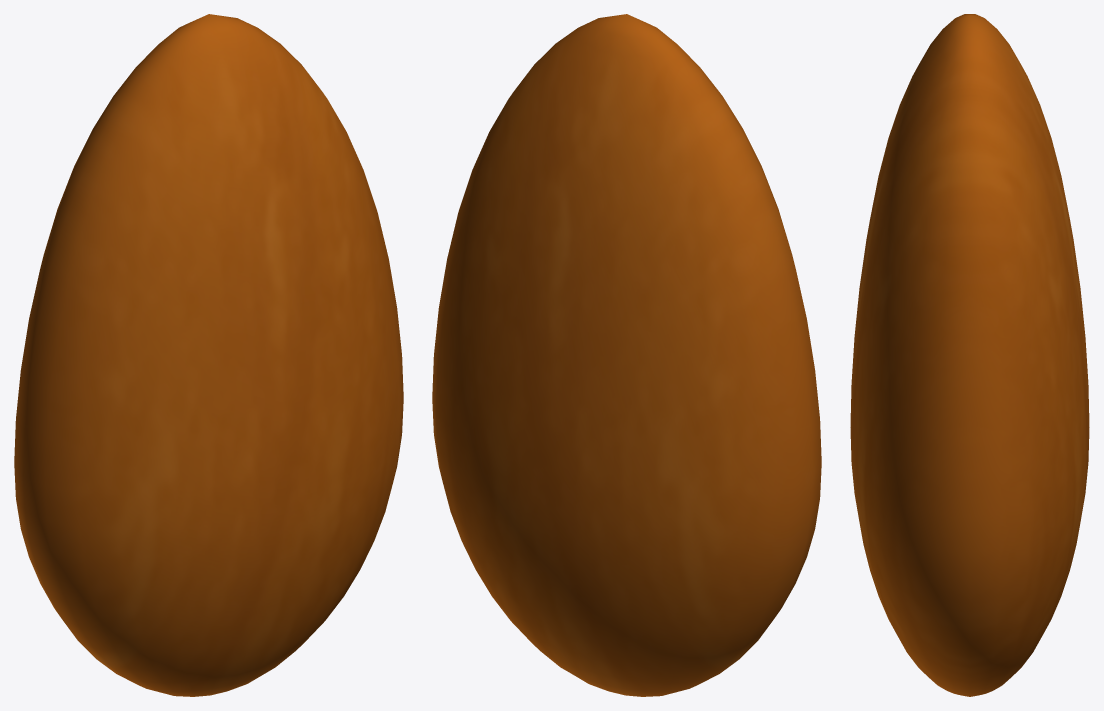
The model's file is almondA_v3.fbx.
3 views of the same model, side by side, from view 1: azimuth 30°, elevation 25°; view 2: azimuth 150°, elevation 25°; view 3: azimuth 270°, elevation 25° (orthographic).
Visible parts, largest first — view 1: almond; view 2: almond; view 3: almond.
Boxes of the visible parts, bbox=[...] form: almond: bbox=[14, 14, 403, 696]; almond: bbox=[432, 14, 821, 696]; almond: bbox=[850, 14, 1089, 696].
Bounding box in the file's own units: 1.5 × 2.62 × 0.8485.
